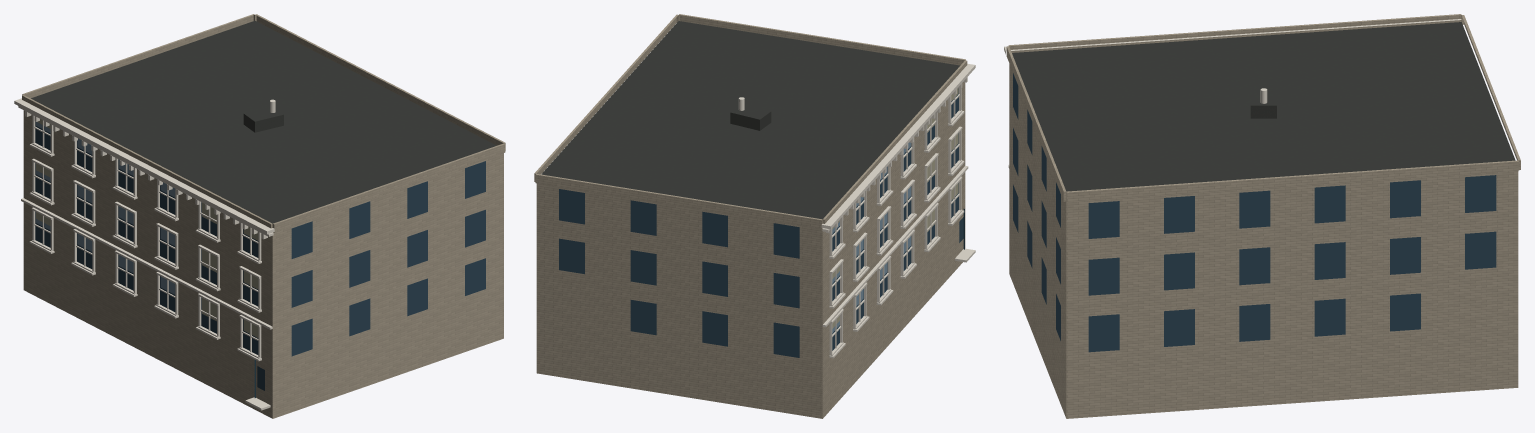
3 renders of one model, left to right at view 1: azimuth 30°, elevation 25°; view 2: azimuth 150°, elevation 25°; view 3: azimuth 270°, elevation 25°, orthographic. The views are drawn at different scales.
Parts seen in each view (by area): view 1: Footprint 0 / surface 2, Footprint 0 / surface 1, Cornices and window frames, Inset glazing, Facade bay volumes, Sky reflection panels, Interior blind variation; view 2: Footprint 0 / surface 2, Footprint 0 / surface 1, Inset glazing, Cornices and window frames, Facade bay volumes, Sky reflection panels, Interior blind variation; view 3: Footprint 0 / surface 2, Footprint 0 / surface 1, Inset glazing, Facade bay volumes, Cornices and window frames.
Part boxes in pixels (box(x1,y1,x2,y2)): Footprint 0 / surface 2: box(23, 110, 503, 418); Footprint 0 / surface 1: box(31, 21, 496, 223); Cornices and window frames: box(14, 98, 274, 410); Inset glazing: box(35, 121, 485, 390); Facade bay volumes: box(22, 14, 505, 232); Sky reflection panels: box(36, 122, 175, 294); Interior blind variation: box(36, 119, 258, 337); Footprint 0 / surface 2: box(536, 82, 965, 418); Footprint 0 / surface 1: box(541, 21, 959, 219); Inset glazing: box(559, 88, 963, 357); Cornices and window frames: box(821, 63, 975, 358); Facade bay volumes: box(534, 14, 967, 228); Sky reflection panels: box(832, 142, 910, 332); Interior blind variation: box(832, 88, 958, 328); Footprint 0 / surface 2: box(1009, 64, 1518, 418); Footprint 0 / surface 1: box(1012, 22, 1515, 191); Inset glazing: box(1013, 73, 1496, 352); Facade bay volumes: box(1006, 14, 1520, 202); Cornices and window frames: box(1004, 19, 1461, 168).
Size of the model in its own units: 19.84 by 12.48 by 23.74.
